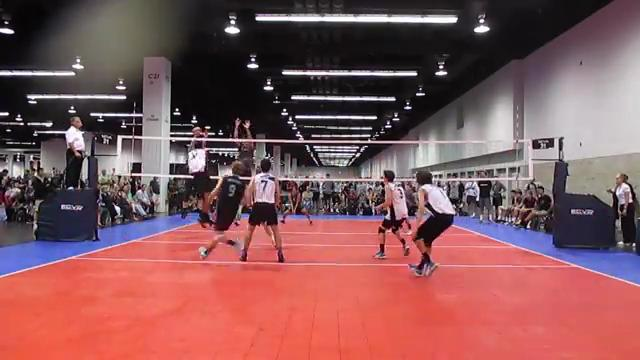Attack: (184, 124, 214, 229)
Block: (233, 116, 254, 168)
Player: (409, 171, 454, 275), (240, 159, 284, 262), (199, 161, 245, 258), (374, 170, 409, 258), (182, 127, 211, 226), (281, 181, 311, 224)
ball: (192, 126, 201, 136)
